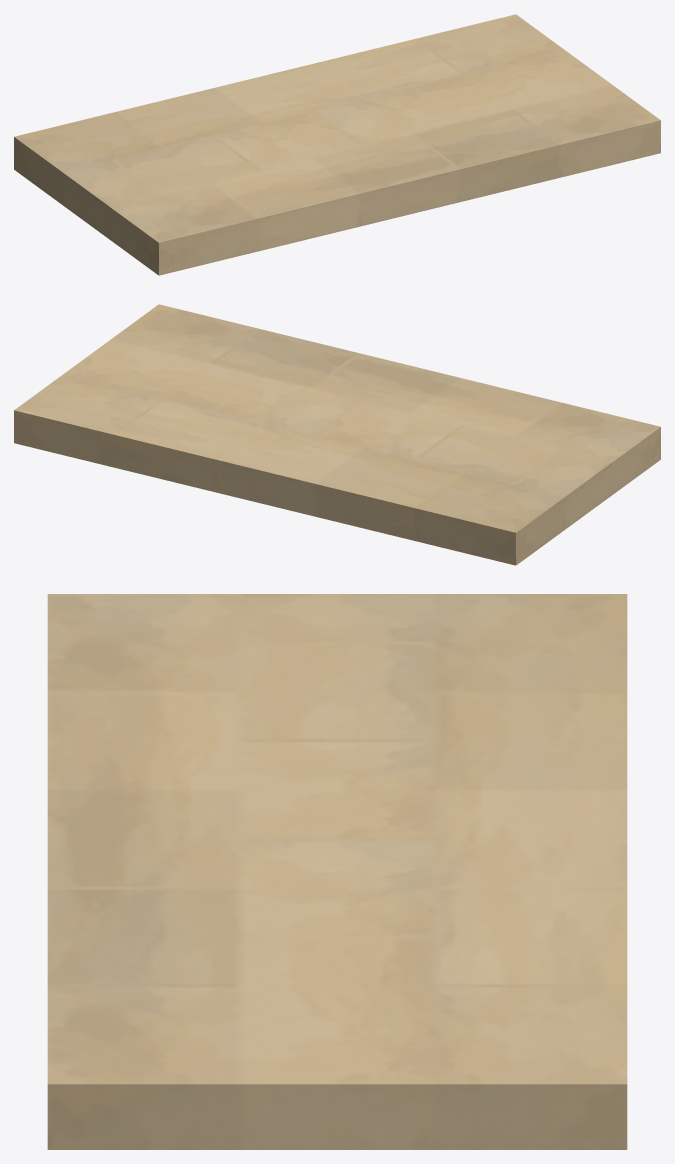
The model's file is limestone-half-floor.fbx.
3 renders of one model, top to bottom at view 1: azimuth 30°, elevation 25°; view 2: azimuth 150°, elevation 25°; view 3: azimuth 270°, elevation 25°, orthographic. The views are drawn at different scales.
Visible parts, largest first — view 1: limestone-half-floor; view 2: limestone-half-floor; view 3: limestone-half-floor.
Boxes of the visible parts, box(x1,y1,x2,y2) form: limestone-half-floor: box(14, 14, 660, 275); limestone-half-floor: box(14, 304, 660, 565); limestone-half-floor: box(47, 594, 627, 1149).
Size of the model in its own units: 400 by 25 by 200.
